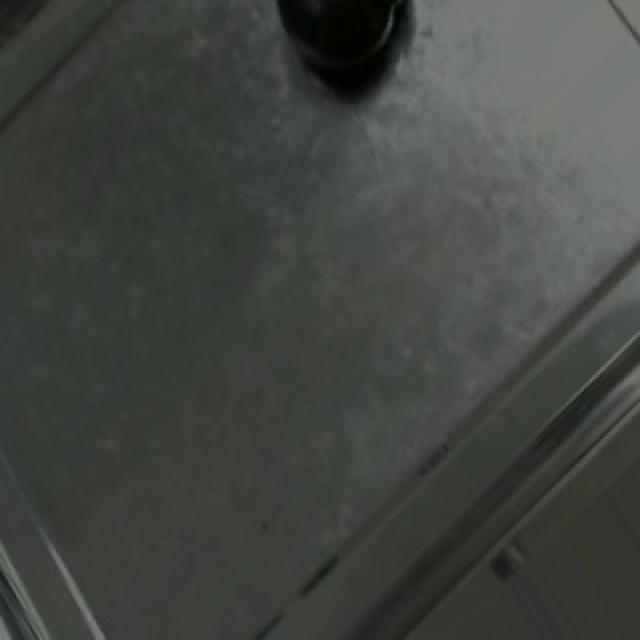Fruit: (256, 0, 424, 99)
